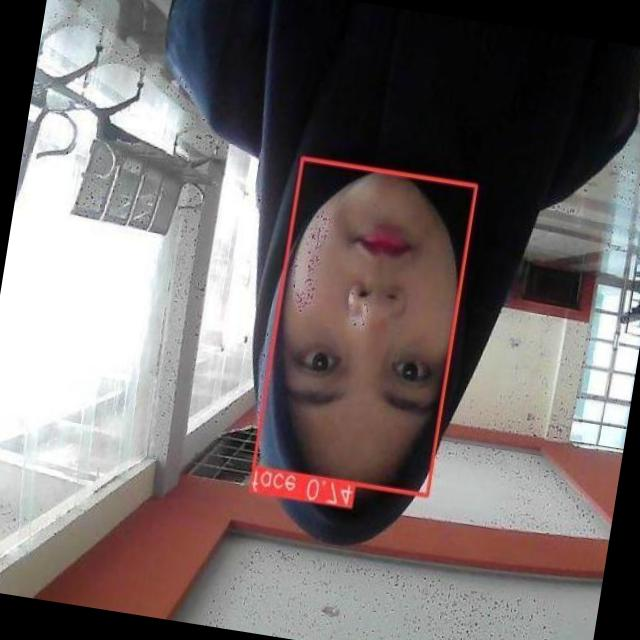bareface: (260, 148, 478, 516)
